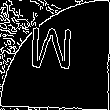M_S: (31, 29, 79, 81)
